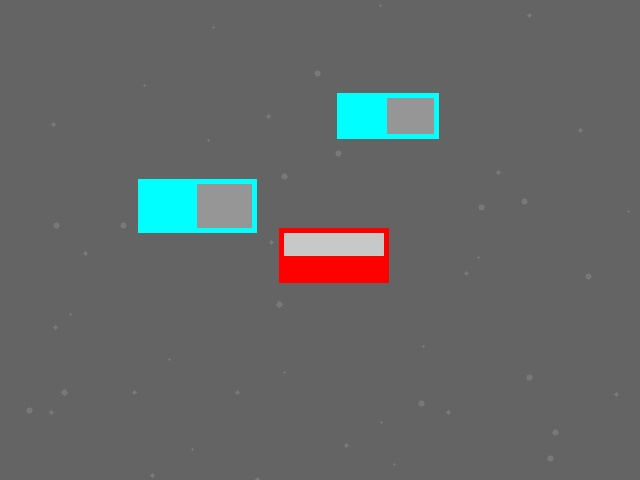car: (279, 228, 388, 282)
truck: (138, 179, 256, 232), (337, 93, 438, 138)
